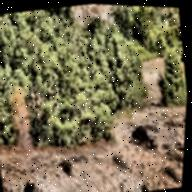boar: (127, 128, 145, 147)
